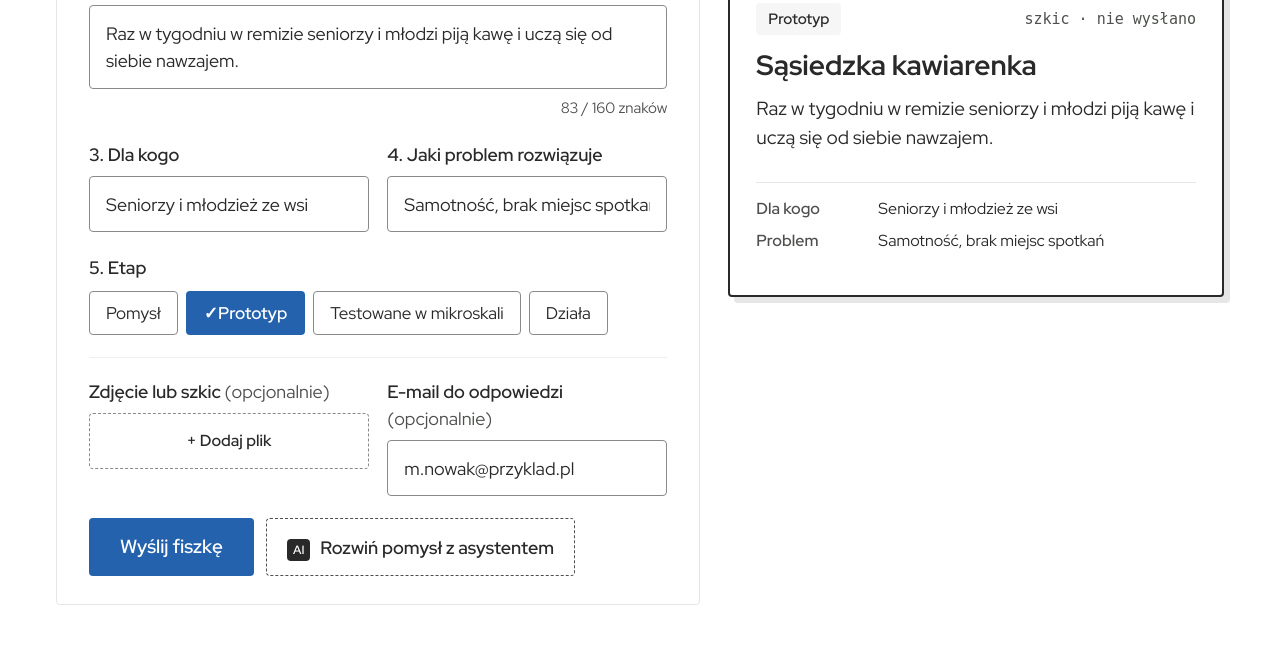
Test case: K1 idea form › sends the idea and shows the case number and reply date
The width and height of the screenshot is (1280, 661).
(page scrolled)
Click the button "Wyślij fiszkę": (172, 547) [89,518,254,576]
(page scrolled)
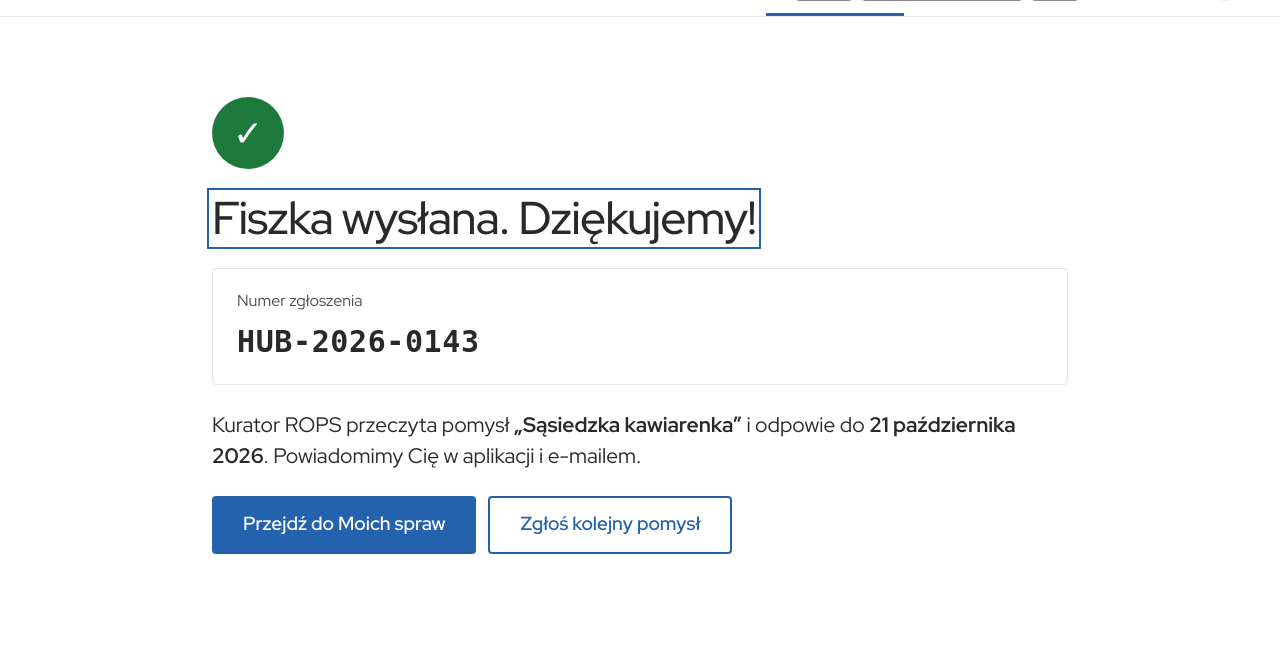
Expected: the heading "Fiszka wysłana. Dziękujemy!" is shown, [212,193,756,244]
Expected: the text "HUB-2026-0143" is shown, [237,324,480,359]
Expected: the text "21 października 2026" is shown, [212,411,1016,469]
Click the link "Przejdź do Moich spraw": (344, 525) [212,496,476,554]
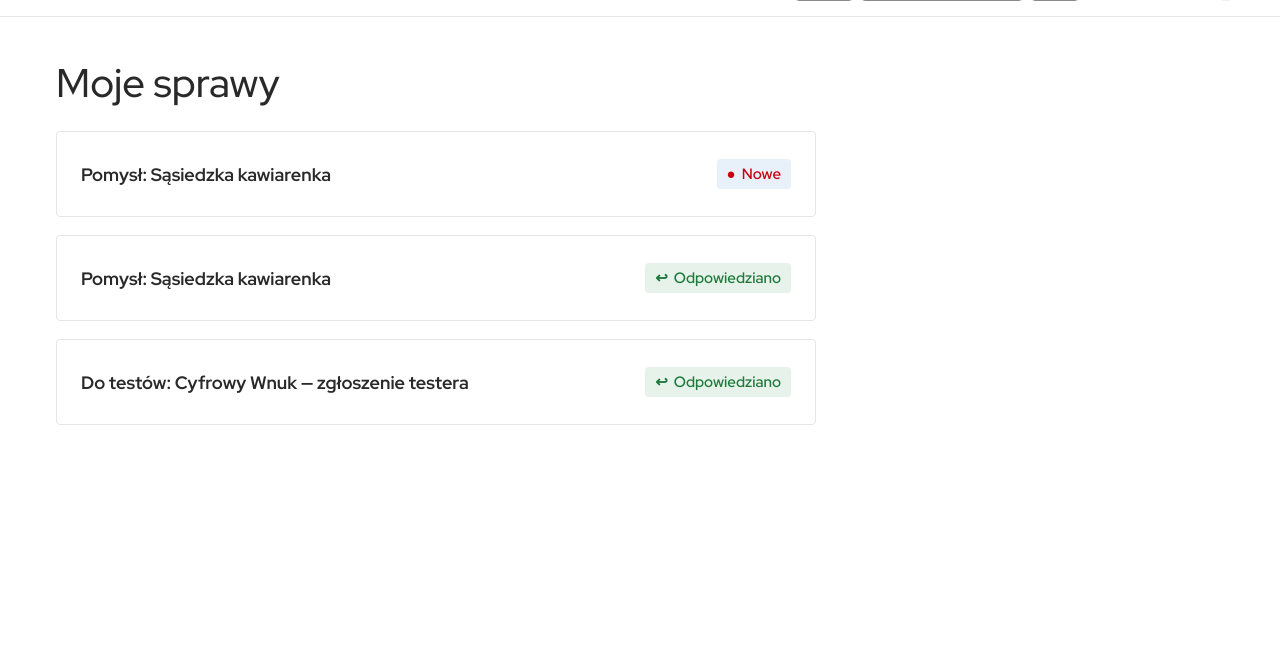
Expected: the number of links "Pomysł: Sąsiedzka kawiarenka" is 2, [81,162,331,186]; [81,266,331,290]
